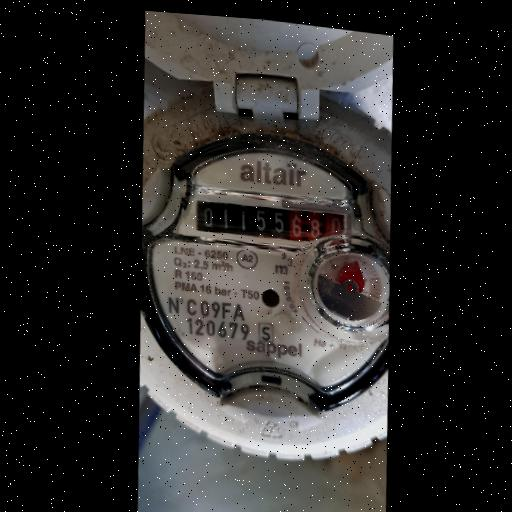0: (202, 200, 217, 231), (327, 212, 344, 238)
1: (235, 204, 252, 237), (217, 202, 234, 234)
5: (270, 208, 289, 241), (253, 205, 270, 238)
6: (288, 209, 305, 241)
8: (308, 211, 323, 244)
border_water_meter_number: (170, 184, 355, 258)
